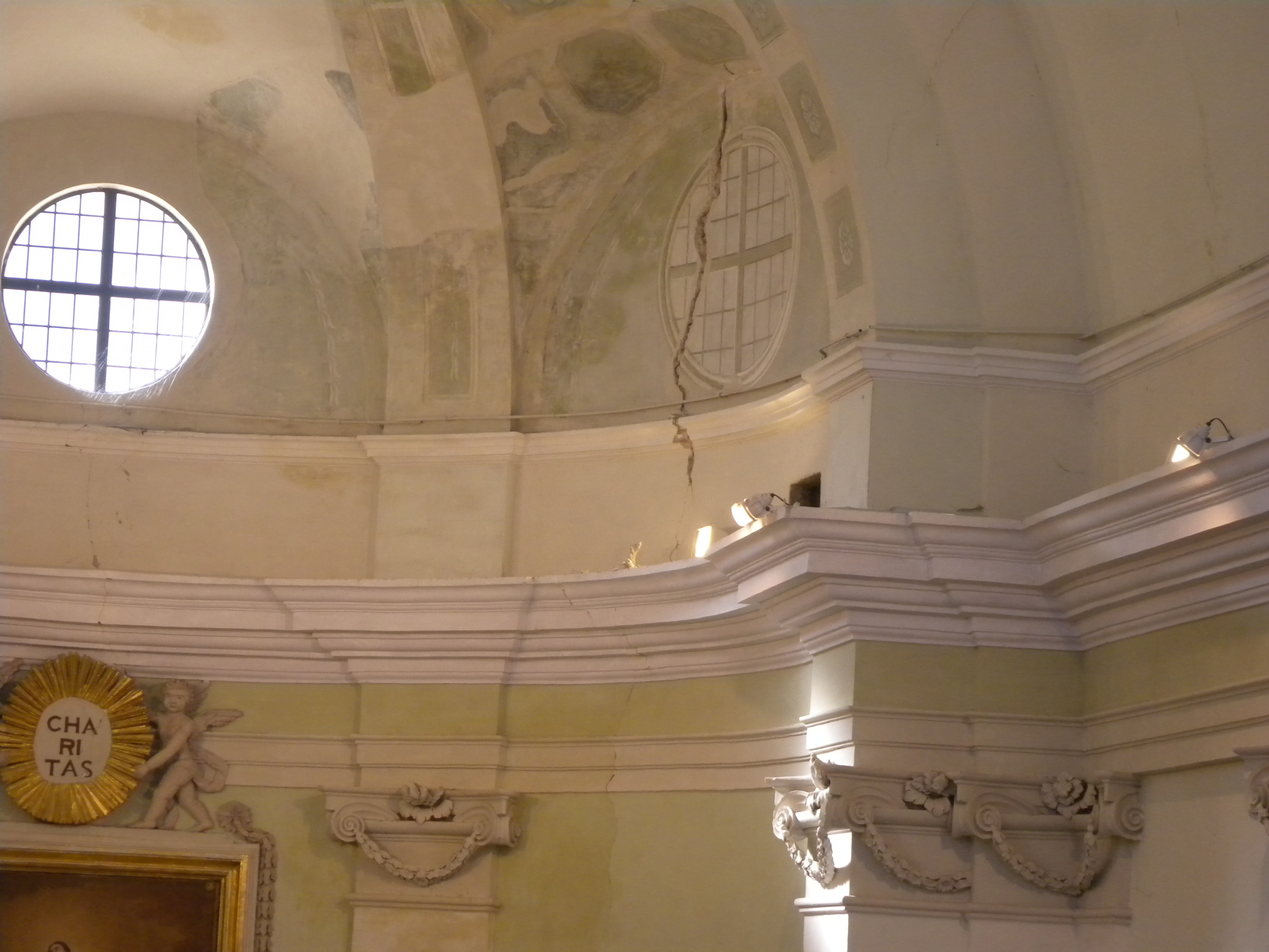Crack: (574, 58, 827, 536)
